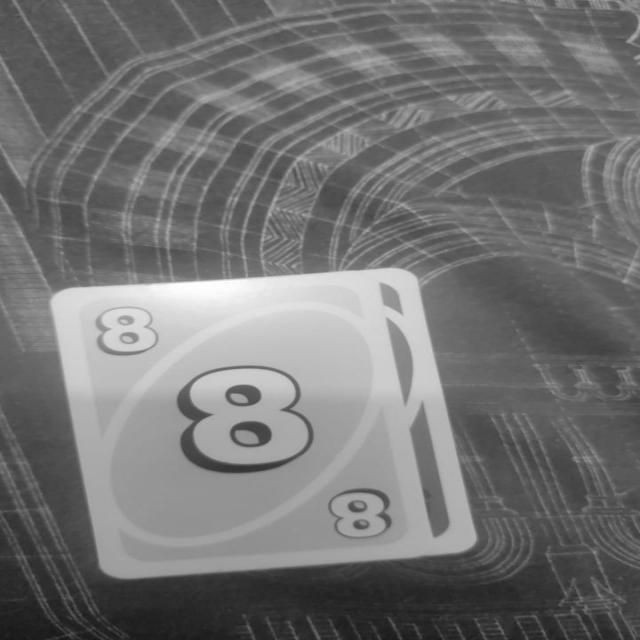card_8: (48, 267, 478, 579)
